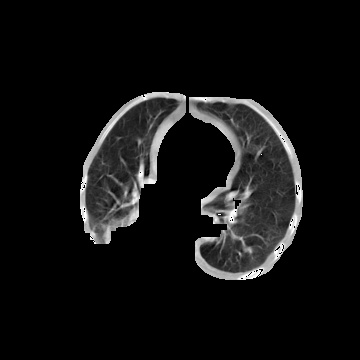PN: (243, 246, 251, 254)
